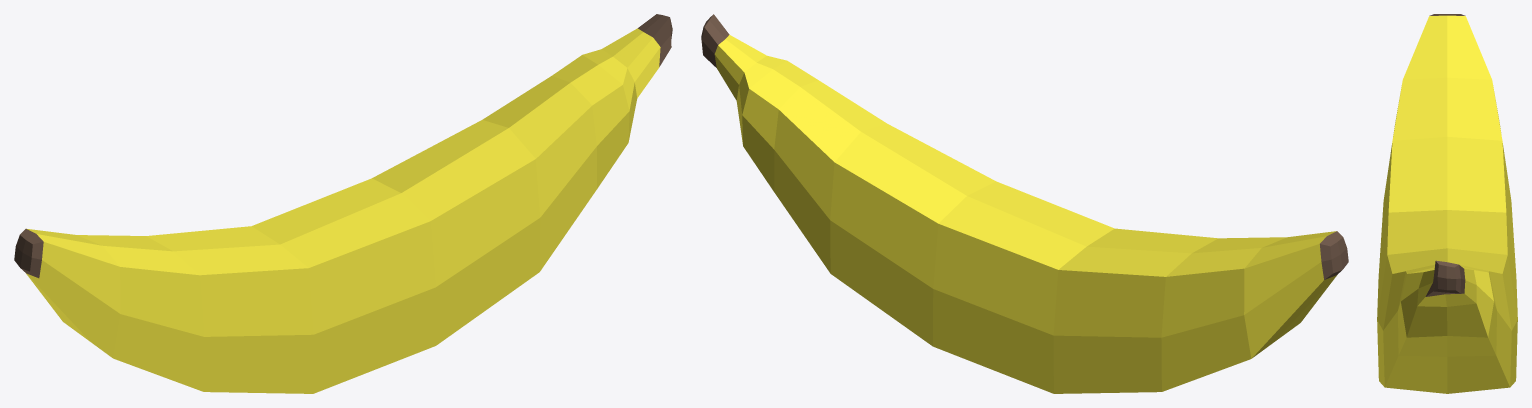
Rendered from Banana_01.fbx.
3 views of the same model, side by side, from view 1: azimuth 30°, elevation 25°; view 2: azimuth 150°, elevation 25°; view 3: azimuth 270°, elevation 25° (orthographic). The views are drawn at different scales.
Parts seen in each view (by area): view 1: Banana_01; view 2: Banana_01; view 3: Banana_01.
Part boxes in pixels (x1,y1,x2,y2): Banana_01: [14, 14, 672, 393]; Banana_01: [701, 14, 1348, 393]; Banana_01: [1377, 14, 1517, 393].
Size of the model in its own units: 29.1 by 11.8 by 5.33.
